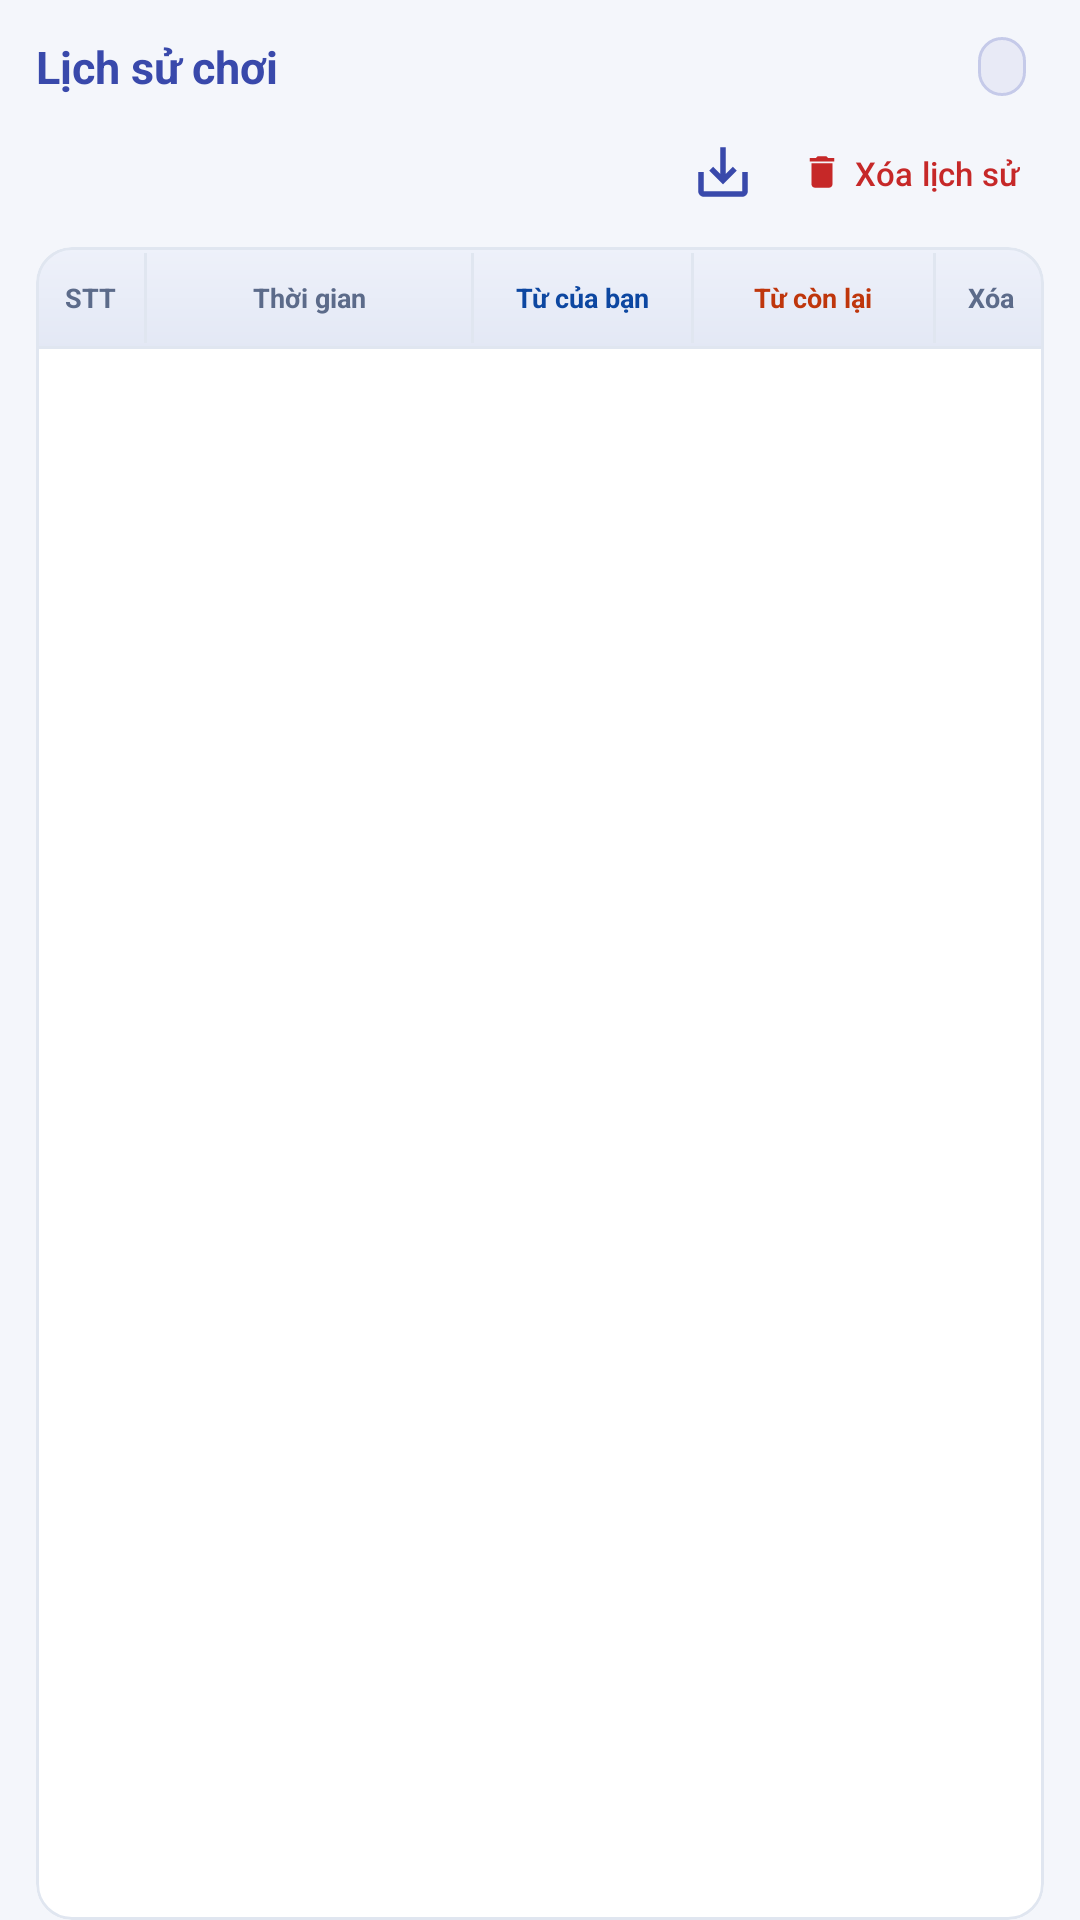

Locate icon controls on the screen. Image size 1080×1920, boxes as (x1, y1, x2, y2).
Xuất Excel/CSV: (698, 147, 748, 197)
